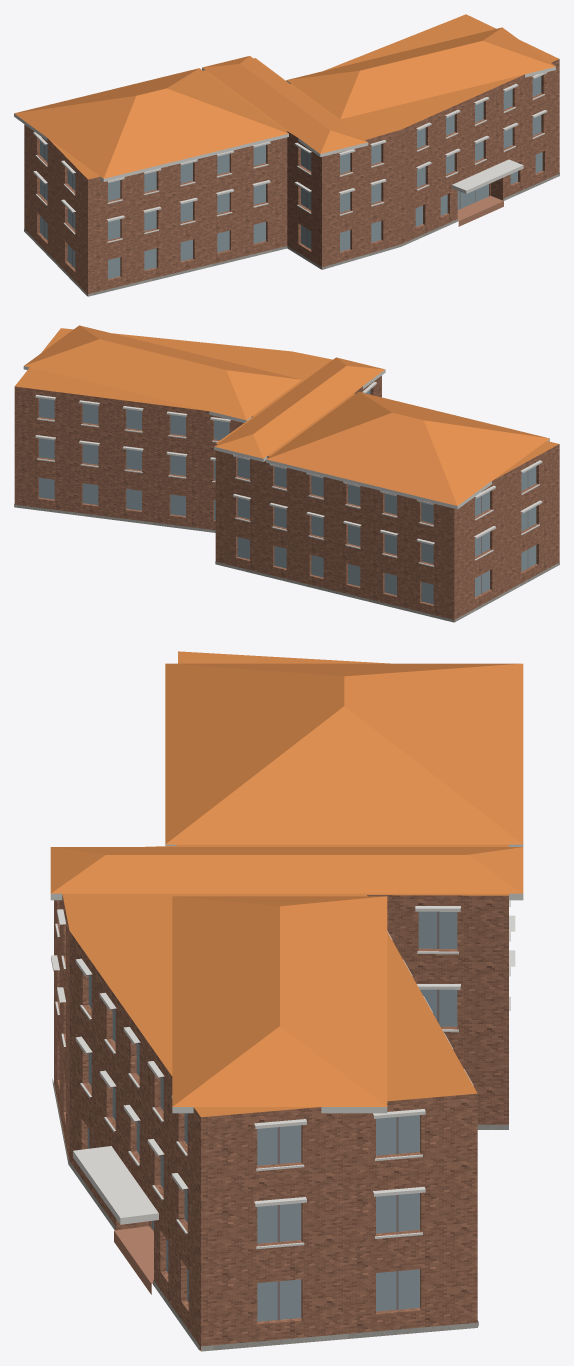
The picture shows the model from 3 angles, top to bottom: view 1: azimuth 30°, elevation 25°; view 2: azimuth 150°, elevation 25°; view 3: azimuth 270°, elevation 25°; orthographic projection. The views are drawn at different scales.
Parts seen in each view (by area): view 1: osm136242966__wall, osm136242966__roofAccent, osm136242966__glass, osm136242966__roof, osm136242966__trim, osm136242966__base, osm136242966__canopy, osm136242966__entranceThreshold_0; view 2: osm136242966__wall, osm136242966__roofAccent, osm136242966__glass, osm136242966__roof, osm136242966__trim, osm136242966__base; view 3: osm136242966__roofAccent, osm136242966__wall, osm136242966__roof, osm136242966__glass, osm136242966__trim, osm136242966__canopy, osm136242966__base, osm136242966__entranceThreshold_0, osm136242966__frame.
Boxes of the visible parts, bbox=[...] form: osm136242966__wall: bbox=[24, 59, 559, 295]; osm136242966__roofAccent: bbox=[14, 27, 555, 178]; osm136242966__glass: bbox=[40, 76, 542, 278]; osm136242966__roof: bbox=[48, 14, 558, 296]; osm136242966__trim: bbox=[14, 67, 555, 242]; osm136242966__base: bbox=[24, 173, 559, 296]; osm136242966__canopy: bbox=[451, 159, 523, 193]; osm136242966__entranceThreshold_0: bbox=[457, 195, 503, 226]; osm136242966__wall: bbox=[14, 375, 559, 622]; osm136242966__roofAccent: bbox=[24, 325, 549, 505]; osm136242966__glass: bbox=[39, 390, 536, 604]; osm136242966__roof: bbox=[14, 328, 558, 480]; osm136242966__trim: bbox=[23, 366, 549, 567]; osm136242966__base: bbox=[14, 504, 559, 622]; osm136242966__roofAccent: bbox=[50, 663, 523, 1106]; osm136242966__wall: bbox=[54, 894, 508, 1350]; osm136242966__roof: bbox=[54, 651, 508, 1350]; osm136242966__glass: bbox=[87, 911, 457, 1321]; osm136242966__trim: bbox=[50, 844, 523, 1249]; osm136242966__canopy: bbox=[73, 1146, 158, 1224]; osm136242966__base: bbox=[52, 1079, 508, 1351]; osm136242966__entranceThreshold_0: bbox=[114, 1226, 153, 1294]; osm136242966__frame: bbox=[277, 911, 439, 1320].
Bounding box in the file's own units: 38.54 × 11.82 × 16.5.
Materials: 10 (2 with a texture image).
